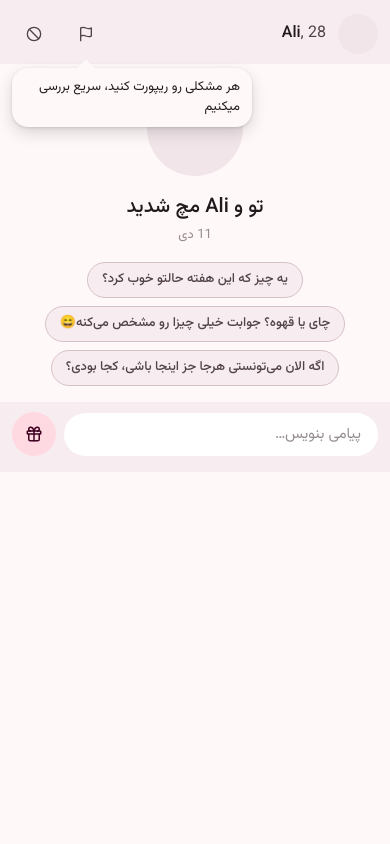
Test: report tooltip in chat (women) › shows on every visit until the report flag is tapped, then never again
Later steps or results of the test are not shown.
Expected: the tooltip with test id "report-tooltip" reads "هر مشکلی رو ریپورت کنید، سریع بررسی میکنیم", [12,68,252,127]
Click the button named "گزارش کاربر" at (86, 34), box [64,12,108,56]
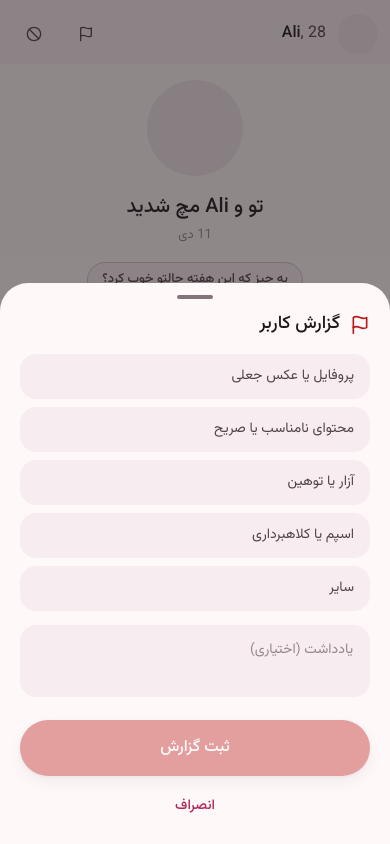
Expected: the tooltip with test id "report-tooltip" is gone
